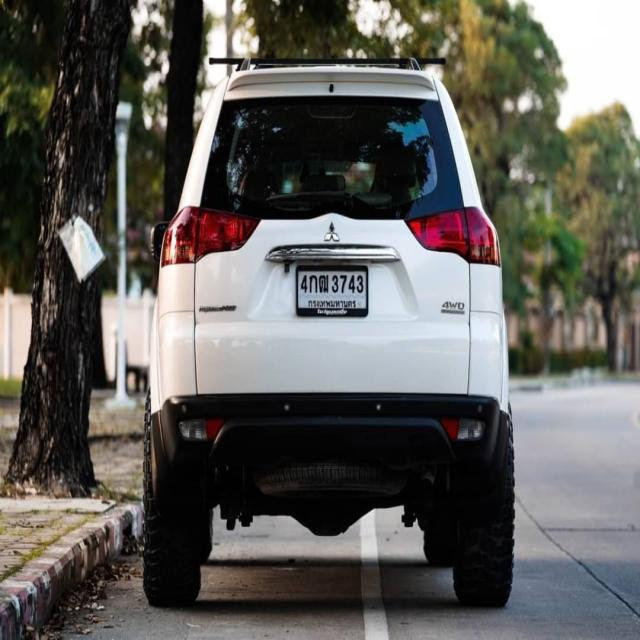license_plate: (294, 261, 372, 322)
